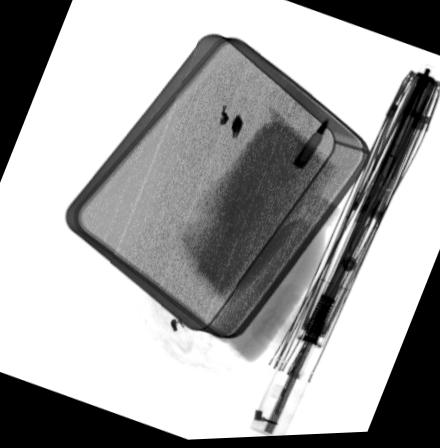Bullet: (289, 119, 327, 174)
